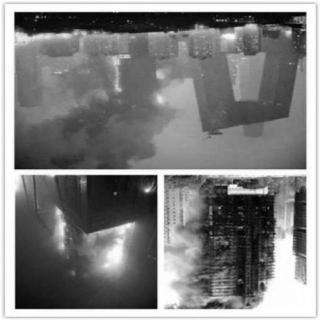other: (220, 33, 238, 45)
